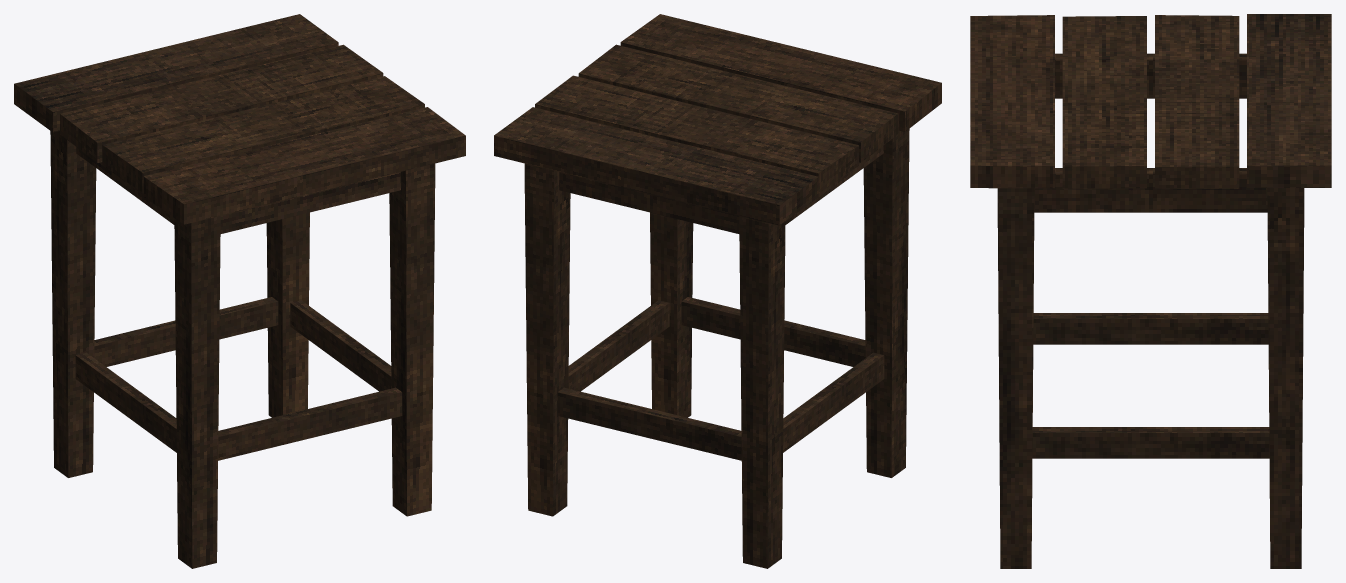
File: chair_mp_1_1.glb
3 renders of one model, left to right at view 1: azimuth 30°, elevation 25°; view 2: azimuth 150°, elevation 25°; view 3: azimuth 270°, elevation 25°, orthographic. The views are drawn at different scales.
Parts seen in each view (by area): view 1: chair_mp_1_1; view 2: chair_mp_1_1; view 3: chair_mp_1_1.
Part boxes in pixels (x1,y1,x2,y2): chair_mp_1_1: (14,14,465,568); chair_mp_1_1: (494,14,941,568); chair_mp_1_1: (970,14,1331,568).
Bounding box in the file's own units: 0.4707 × 0.594 × 0.47.
1 material, 1 textured.
